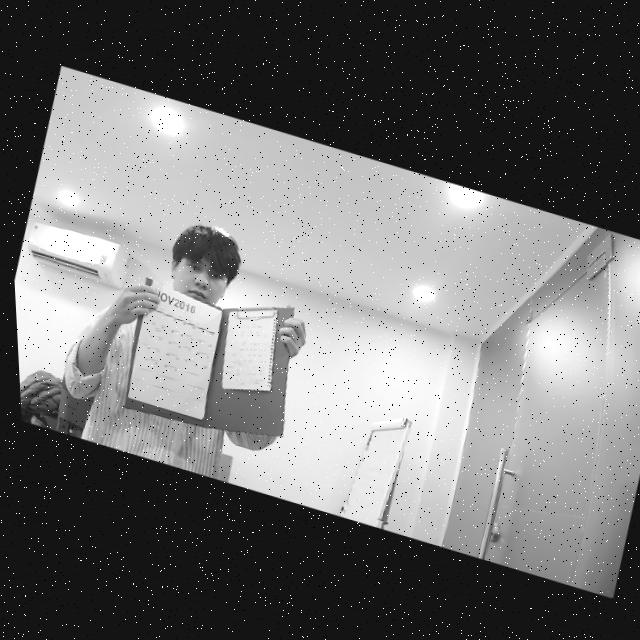document: (128, 279, 221, 420), (221, 310, 277, 390)
face: (166, 220, 239, 308)
